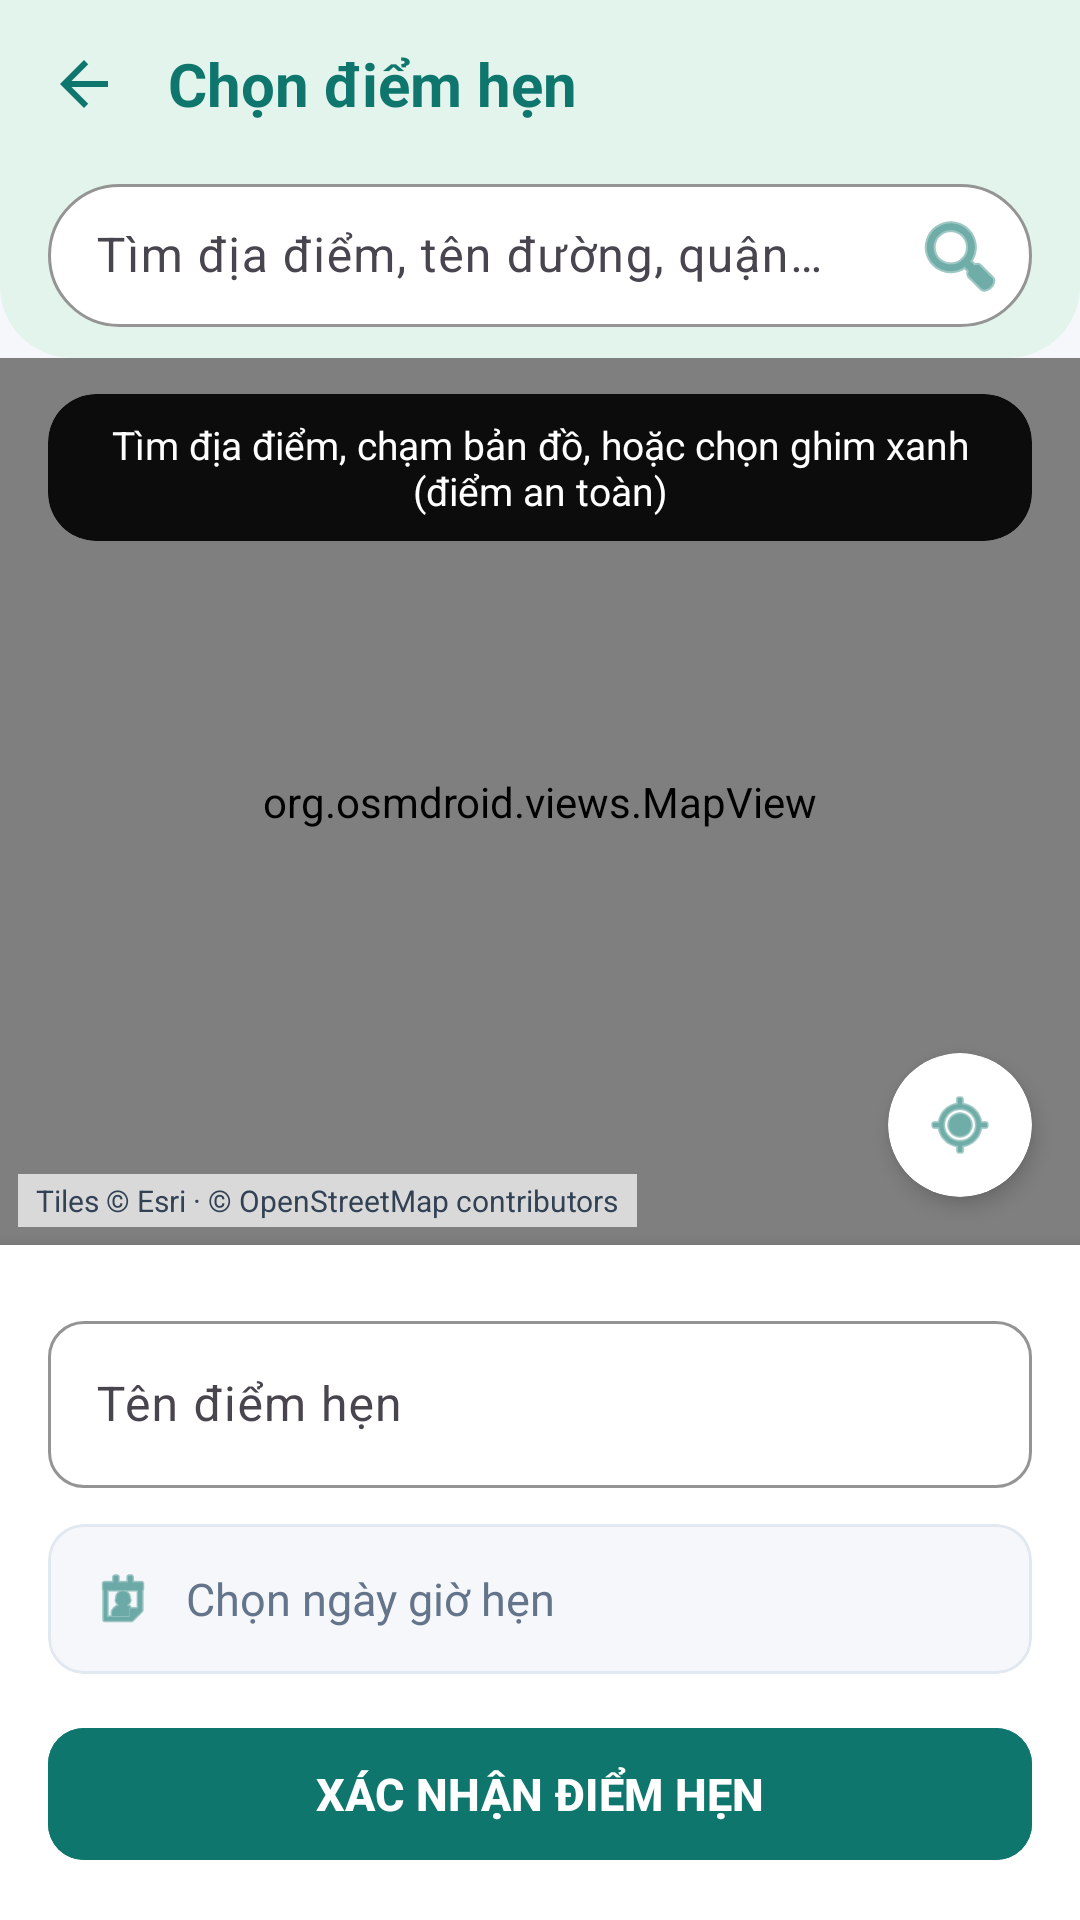

Icon click points for this 1080 x 1920 phone screenshot, format [x,y]:
calendar: [123,1598]
mylocation: [960,1125]
Quay lại: [84,84]
